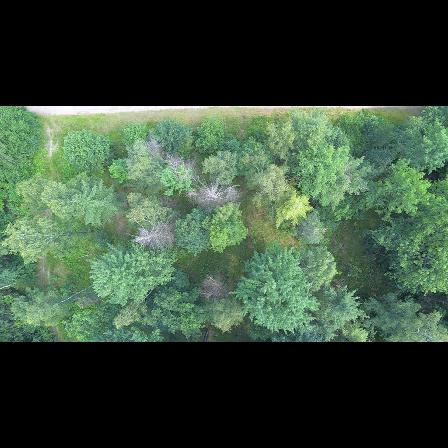Dead: (132, 215, 178, 248), (196, 271, 228, 302), (163, 151, 197, 176), (189, 185, 223, 204), (223, 184, 238, 200)
